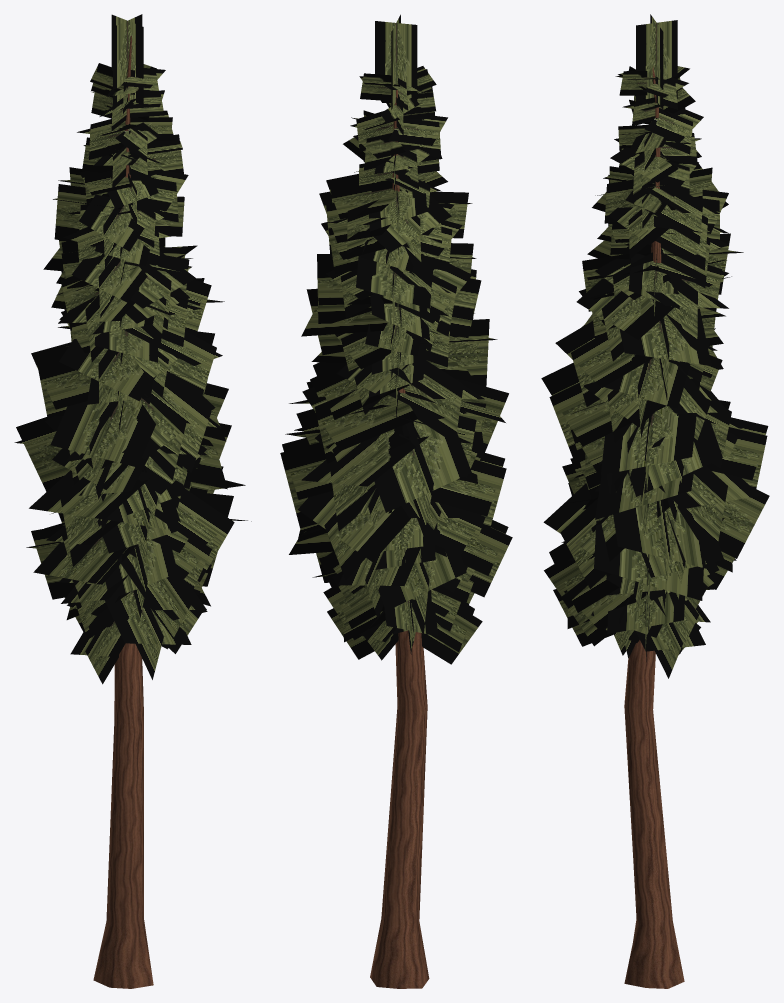
File: rwd.glb
3 views of the same model, side by side, from view 1: azimuth 30°, elevation 25°; view 2: azimuth 150°, elevation 25°; view 3: azimuth 270°, elevation 25° (orthographic).
Visible parts, largest first — view 1: rwd_lod0_1, rwd_lod0_0; view 2: rwd_lod0_1, rwd_lod0_0; view 3: rwd_lod0_1, rwd_lod0_0.
Part boxes in pixels (x1,y1,x2,y2): rwd_lod0_1: (14,14,251,684); rwd_lod0_0: (93,35,153,988); rwd_lod0_1: (280,14,512,664); rwd_lod0_0: (370,90,429,988); rwd_lod0_1: (541,14,769,678); rwd_lod0_0: (624,66,684,988).
Size of what is drawn, in the model's own units: 8.22 by 37.91 by 8.21.
Materials: 2 (2 with a texture image).
